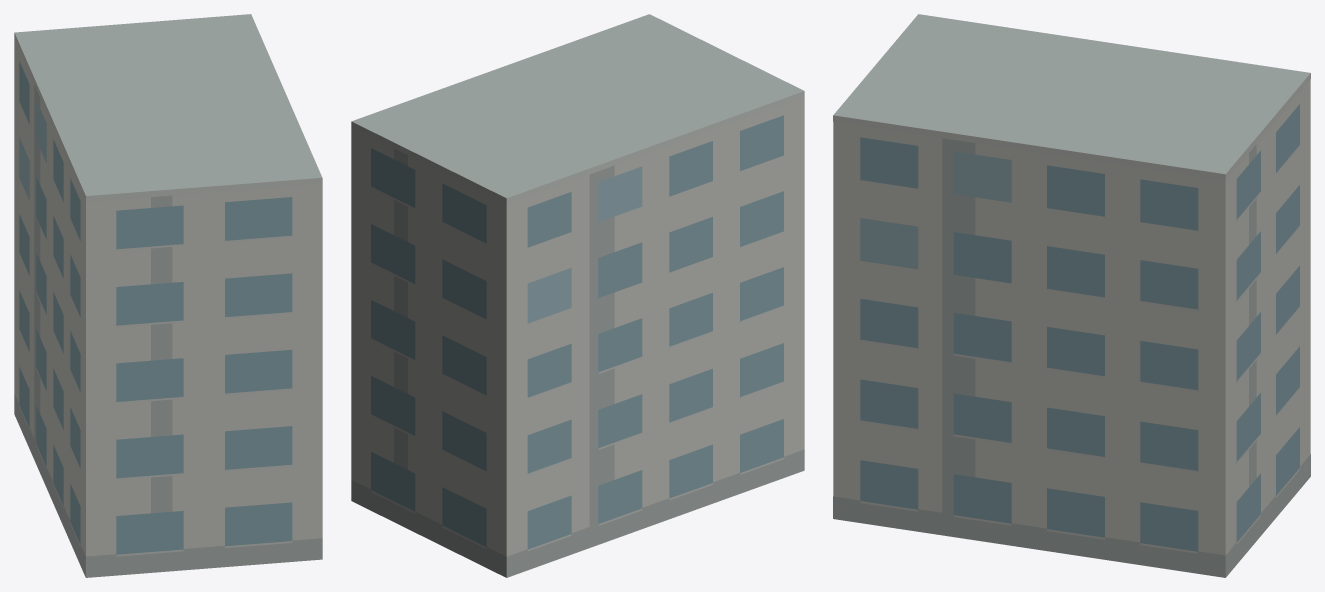
File: residential-7a22194d-a0a5-40b8-9813-877311d13507.glb
3 views of the same model, side by side, from view 1: azimuth 30°, elevation 25°; view 2: azimuth 150°, elevation 25°; view 3: azimuth 270°, elevation 25° (orthographic). The views are drawn at different scales.
Parts seen in each view (by area): view 1: residential-7a22194d-a0a5-40b8-9813-877311d13507.tmp; view 2: residential-7a22194d-a0a5-40b8-9813-877311d13507.tmp; view 3: residential-7a22194d-a0a5-40b8-9813-877311d13507.tmp.
Part boxes in pixels (x1,y1,x2,y2): residential-7a22194d-a0a5-40b8-9813-877311d13507.tmp: (14, 14, 322, 577); residential-7a22194d-a0a5-40b8-9813-877311d13507.tmp: (351, 14, 804, 577); residential-7a22194d-a0a5-40b8-9813-877311d13507.tmp: (833, 14, 1310, 577).
Size of the model in its own units: 12.99 by 15.25 by 16.36.
